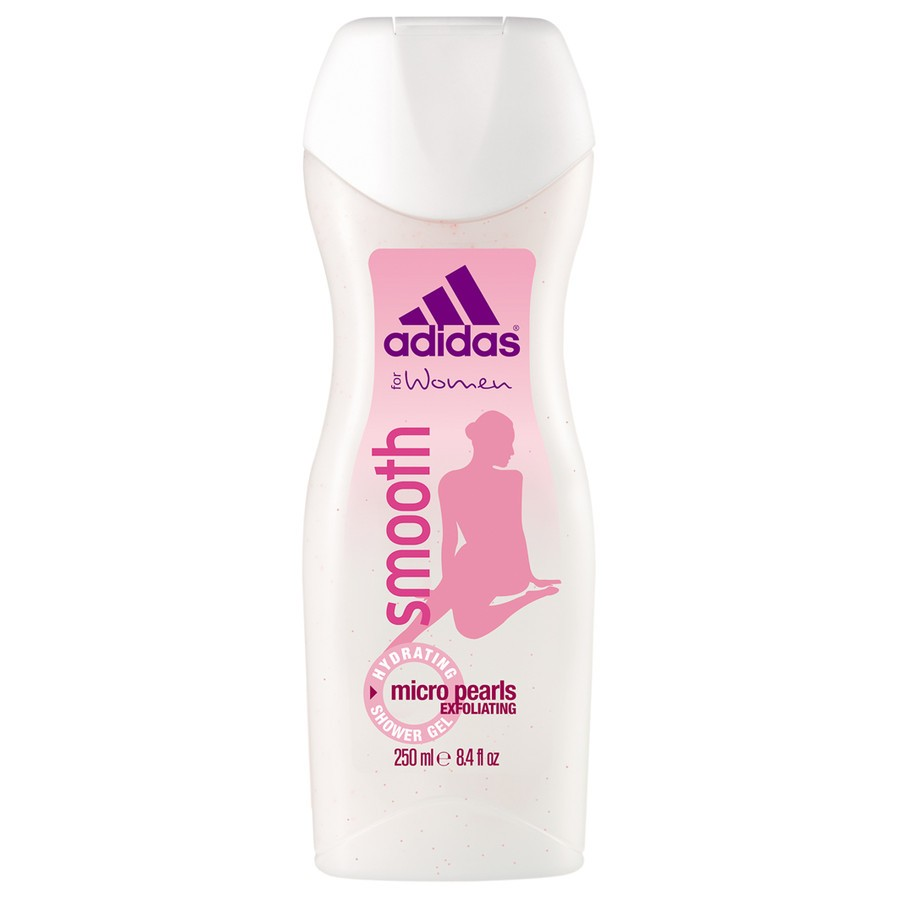Adidas: (381, 258, 524, 363)
